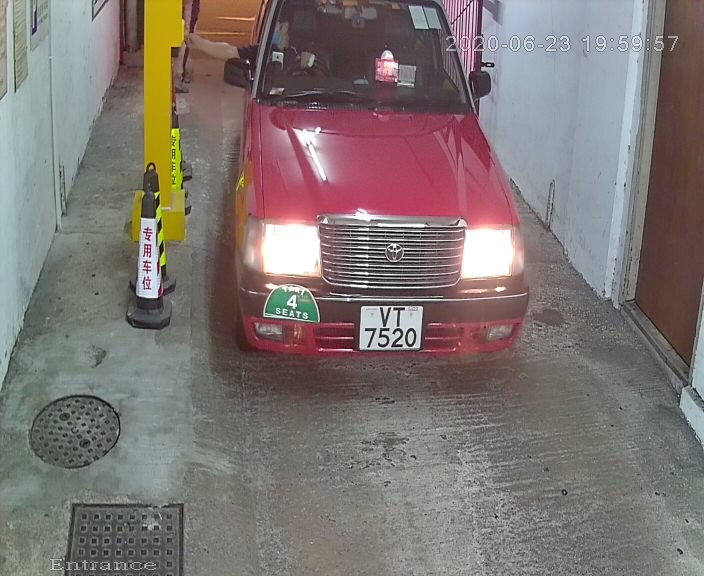taxi: (207, 1, 539, 377)
taxi_mark: (254, 275, 331, 331)
